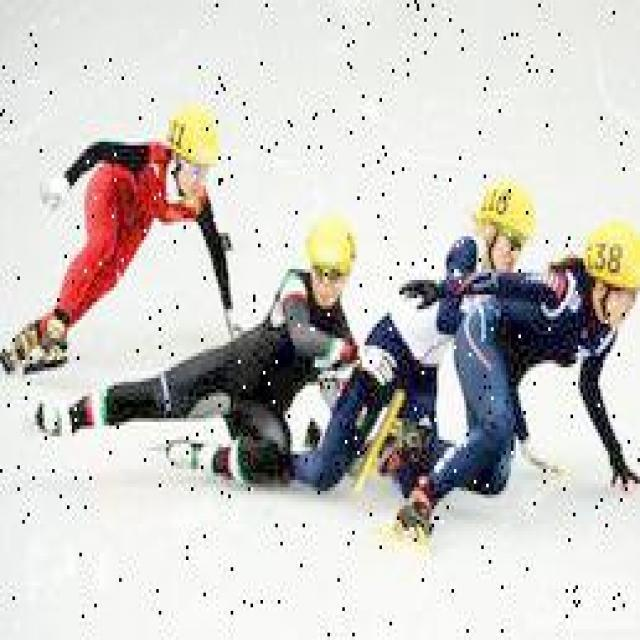fall: (30, 240, 352, 472)
